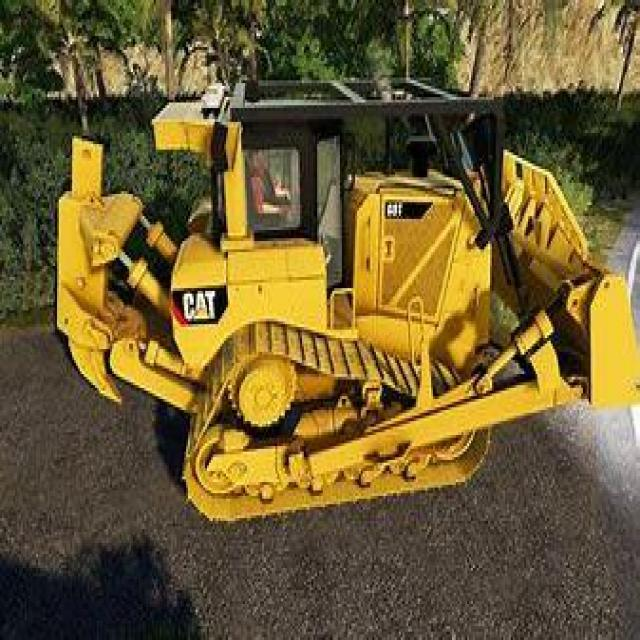Bulldozer: (46, 59, 638, 526)
